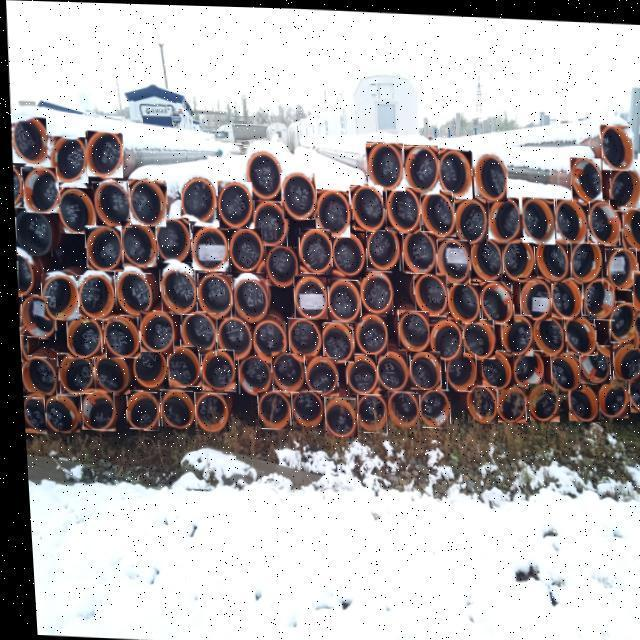pipe: (363, 140, 403, 188), (126, 177, 164, 226), (18, 166, 58, 212), (276, 171, 315, 217), (55, 186, 92, 234), (12, 207, 48, 256), (73, 275, 113, 319), (90, 181, 129, 226), (84, 130, 121, 177), (436, 145, 470, 196), (243, 150, 279, 198), (178, 174, 214, 222), (81, 226, 120, 270), (10, 115, 45, 164), (188, 224, 225, 270), (48, 136, 85, 182), (193, 271, 229, 318), (402, 143, 437, 191), (383, 183, 418, 231), (416, 188, 453, 233), (111, 270, 148, 315), (176, 308, 212, 354), (38, 274, 74, 320), (98, 314, 136, 357), (152, 218, 189, 262), (156, 268, 193, 312), (15, 294, 51, 339), (472, 150, 505, 199), (215, 180, 250, 226), (433, 235, 467, 282), (451, 194, 484, 242), (347, 183, 382, 228), (52, 353, 90, 394), (314, 188, 347, 235), (117, 222, 153, 265), (212, 315, 248, 358), (225, 227, 260, 271), (399, 227, 433, 272), (363, 223, 397, 268), (17, 354, 51, 399), (63, 314, 97, 359), (251, 199, 284, 245), (601, 243, 636, 286), (289, 274, 324, 317), (230, 278, 265, 321), (585, 195, 617, 242), (607, 162, 639, 209), (598, 122, 632, 166), (498, 234, 532, 278), (410, 270, 444, 313), (567, 235, 599, 280), (553, 195, 585, 240), (520, 194, 552, 239), (485, 194, 517, 239), (357, 267, 389, 312), (330, 230, 362, 275), (297, 227, 329, 272), (89, 352, 124, 393), (476, 279, 510, 321), (532, 236, 565, 279), (444, 278, 477, 321), (136, 309, 169, 352), (568, 154, 600, 198), (196, 349, 231, 389), (162, 345, 197, 385), (559, 311, 593, 352), (233, 353, 267, 394), (249, 319, 282, 361), (515, 274, 547, 317), (325, 277, 357, 320), (340, 352, 374, 392), (426, 316, 459, 357), (121, 389, 154, 430), (579, 274, 611, 316), (547, 273, 579, 315), (284, 316, 316, 358), (266, 352, 301, 390), (75, 391, 110, 429), (129, 348, 162, 388), (262, 244, 294, 285), (301, 353, 333, 394), (497, 310, 528, 352), (394, 307, 425, 349), (605, 297, 635, 340), (468, 235, 498, 278), (458, 316, 491, 355), (440, 350, 473, 389), (351, 312, 383, 352), (253, 388, 285, 428), (190, 391, 222, 431), (373, 348, 404, 389), (156, 388, 189, 426), (318, 321, 350, 360), (41, 393, 73, 432), (508, 346, 539, 386), (477, 346, 508, 386), (414, 386, 445, 426), (320, 395, 351, 435), (608, 337, 638, 378), (461, 382, 493, 420), (528, 313, 559, 352), (523, 379, 554, 418), (576, 340, 606, 380), (406, 347, 436, 387), (352, 391, 382, 431), (286, 388, 317, 426), (383, 389, 414, 426), (546, 349, 576, 387), (593, 375, 622, 414), (564, 379, 593, 418), (492, 381, 521, 420), (18, 391, 41, 433), (619, 203, 640, 246), (14, 252, 30, 297), (623, 370, 640, 409), (630, 267, 640, 309), (10, 168, 20, 207), (630, 307, 640, 345), (16, 327, 23, 361)
